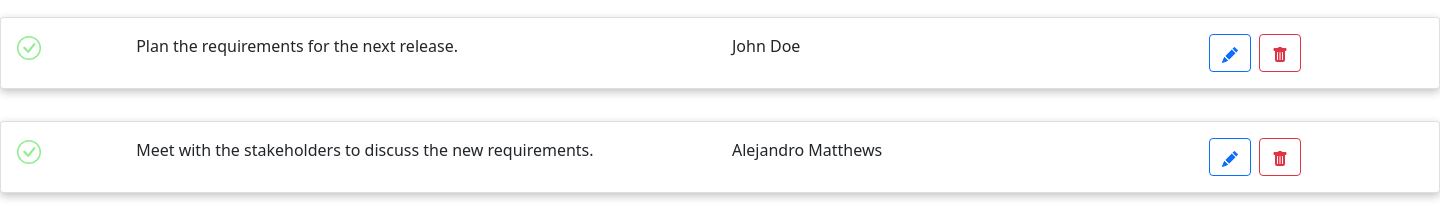
Test case: Tasks list: › delete a task
Expected: the number of elements with test id "check-task1" is 1, [17,36,41,60]
Expected: the number of elements with test id "check-task2" is 1, [17,140,41,164]
Click the button with test id "delete-button-task2". click: (1280, 157)
box: [1259,138,1301,176]
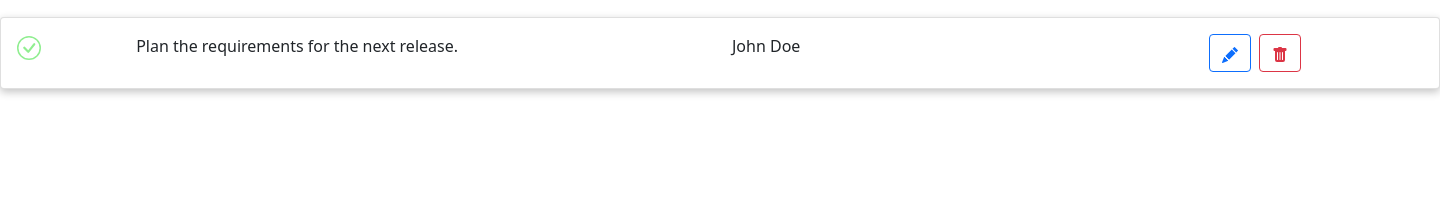
Expected: the number of elements with test id "check-task1" is 1, [17,36,41,60]
Result: no elements with test id "check-task2" are shown
